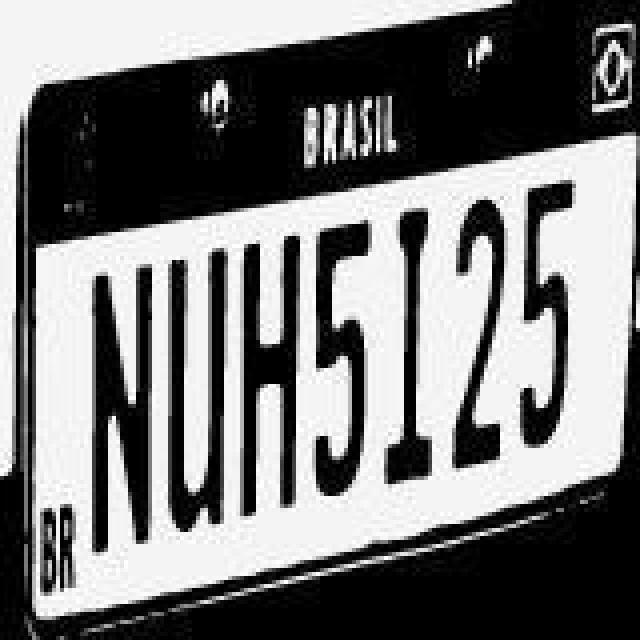2: (448, 180, 512, 460)
5: (312, 206, 376, 498), (520, 164, 584, 444)
H: (236, 220, 308, 516)
I: (380, 184, 444, 488)
N: (80, 252, 160, 548)
U: (168, 232, 232, 520)
